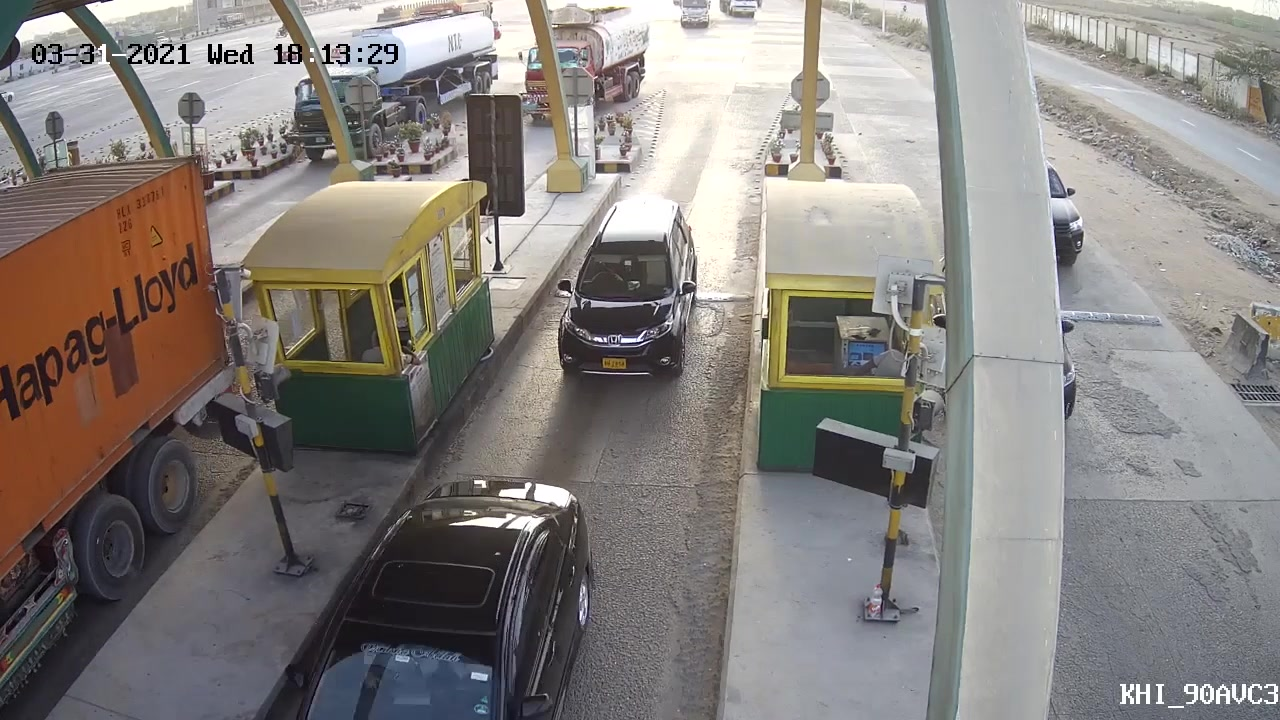F1: (544, 196, 704, 382)
